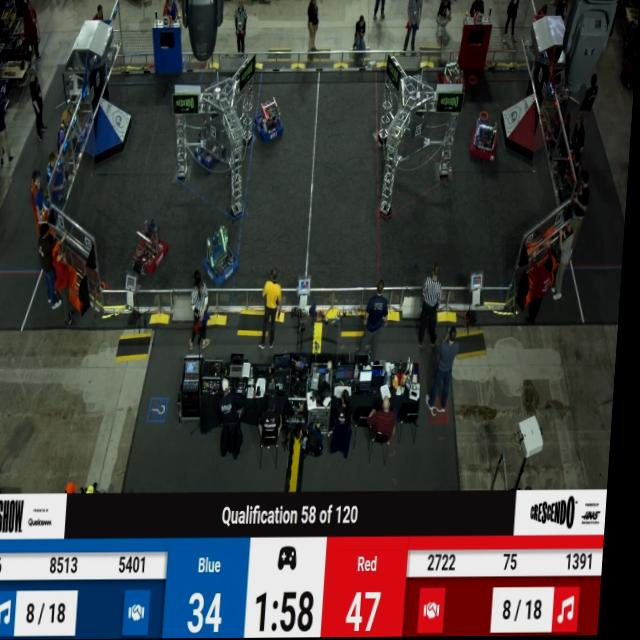Robot: (198, 222, 249, 288), (134, 213, 174, 278), (195, 119, 226, 175), (256, 95, 289, 145), (440, 56, 473, 101), (471, 119, 502, 165)
